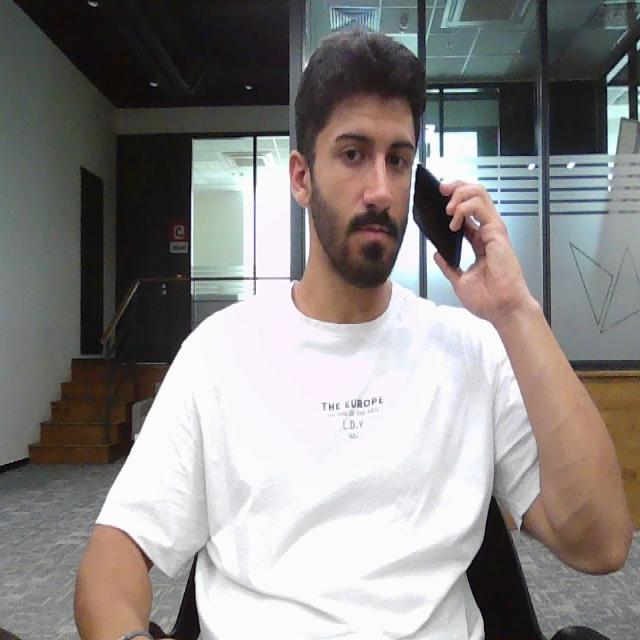phone: (412, 161, 466, 272)
